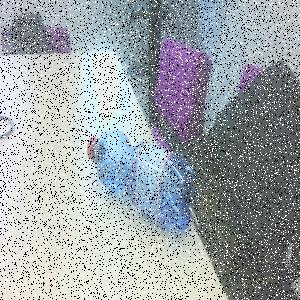Plastic-bottle: (87, 130, 196, 234)
